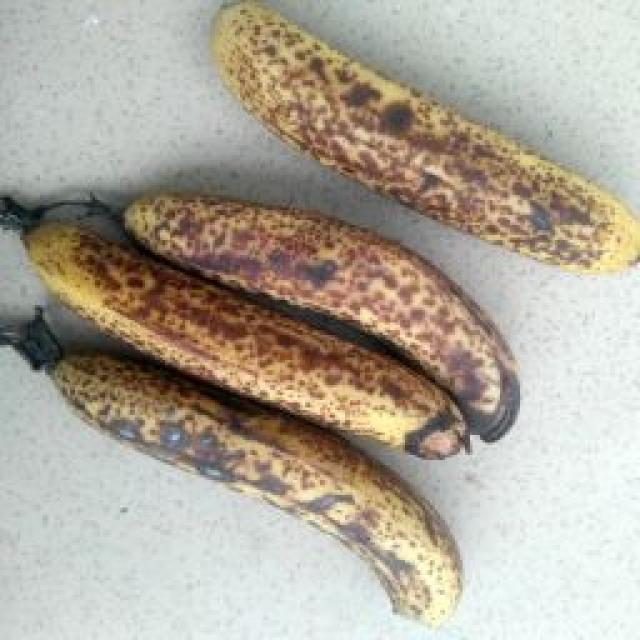banana: (162, 11, 553, 573)
